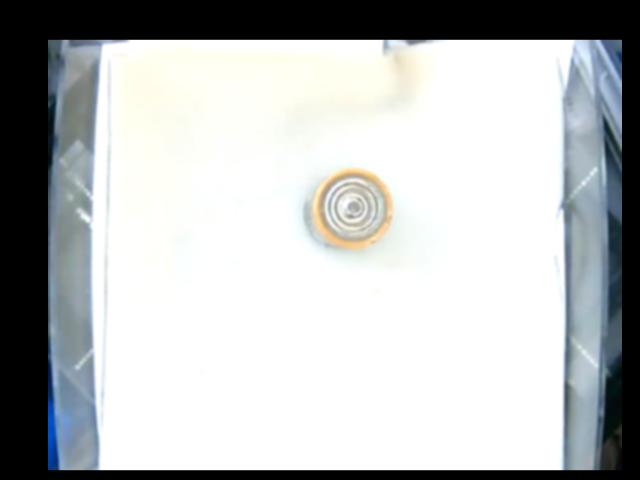Battery: (304, 168, 395, 247)
